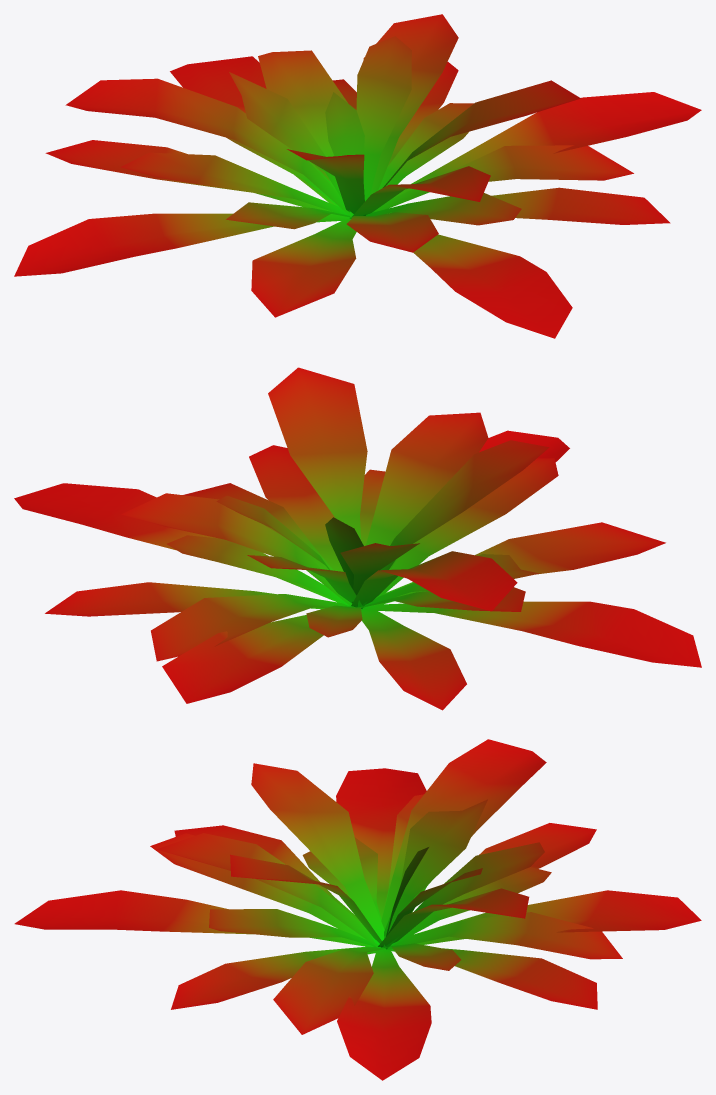
Rendered from Var15_LOD1.fbx.
3 views of the same model, one above another, from view 1: azimuth 30°, elevation 25°; view 2: azimuth 150°, elevation 25°; view 3: azimuth 270°, elevation 25° (orthographic). The views are drawn at different scales.
Parts seen in each view (by area): view 1: _ezas_Var15_LOD1; view 2: _ezas_Var15_LOD1; view 3: _ezas_Var15_LOD1.
Part boxes in pixels (box(x1,y1,x2,y2)): _ezas_Var15_LOD1: box(14, 14, 701, 338); _ezas_Var15_LOD1: box(14, 367, 701, 710); _ezas_Var15_LOD1: box(14, 739, 701, 1080).
Size of the model in its own units: 20.55 by 4.36 by 19.11.
